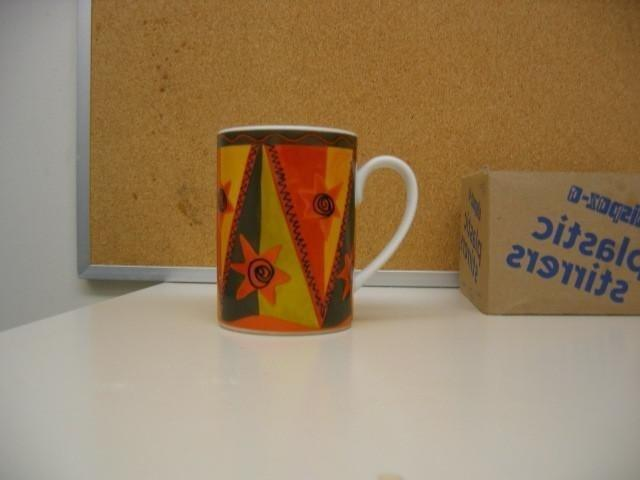cup-handle: (213, 126, 420, 337)
